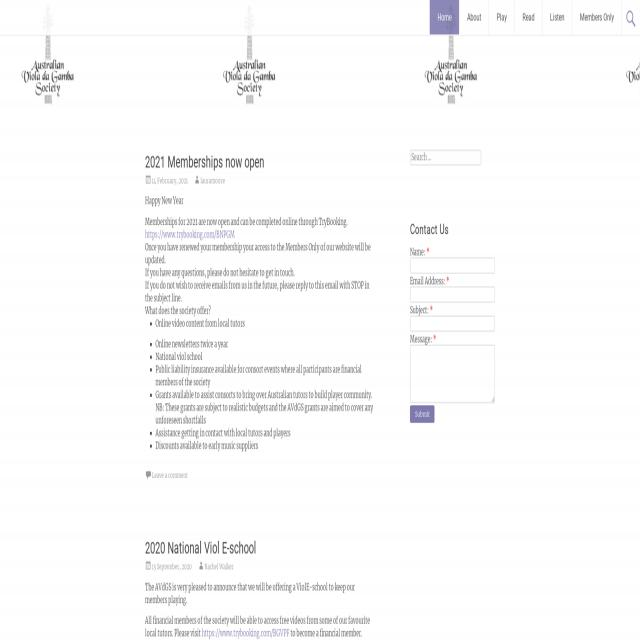button: (576, 1, 618, 32), (542, 0, 572, 34), (459, 0, 489, 34), (430, 0, 459, 34), (514, 0, 542, 34), (489, 0, 514, 34), (622, 1, 640, 34), (410, 406, 434, 423)
field: (410, 344, 494, 403), (410, 258, 495, 273), (410, 287, 495, 302), (410, 316, 495, 331), (410, 150, 482, 165)
